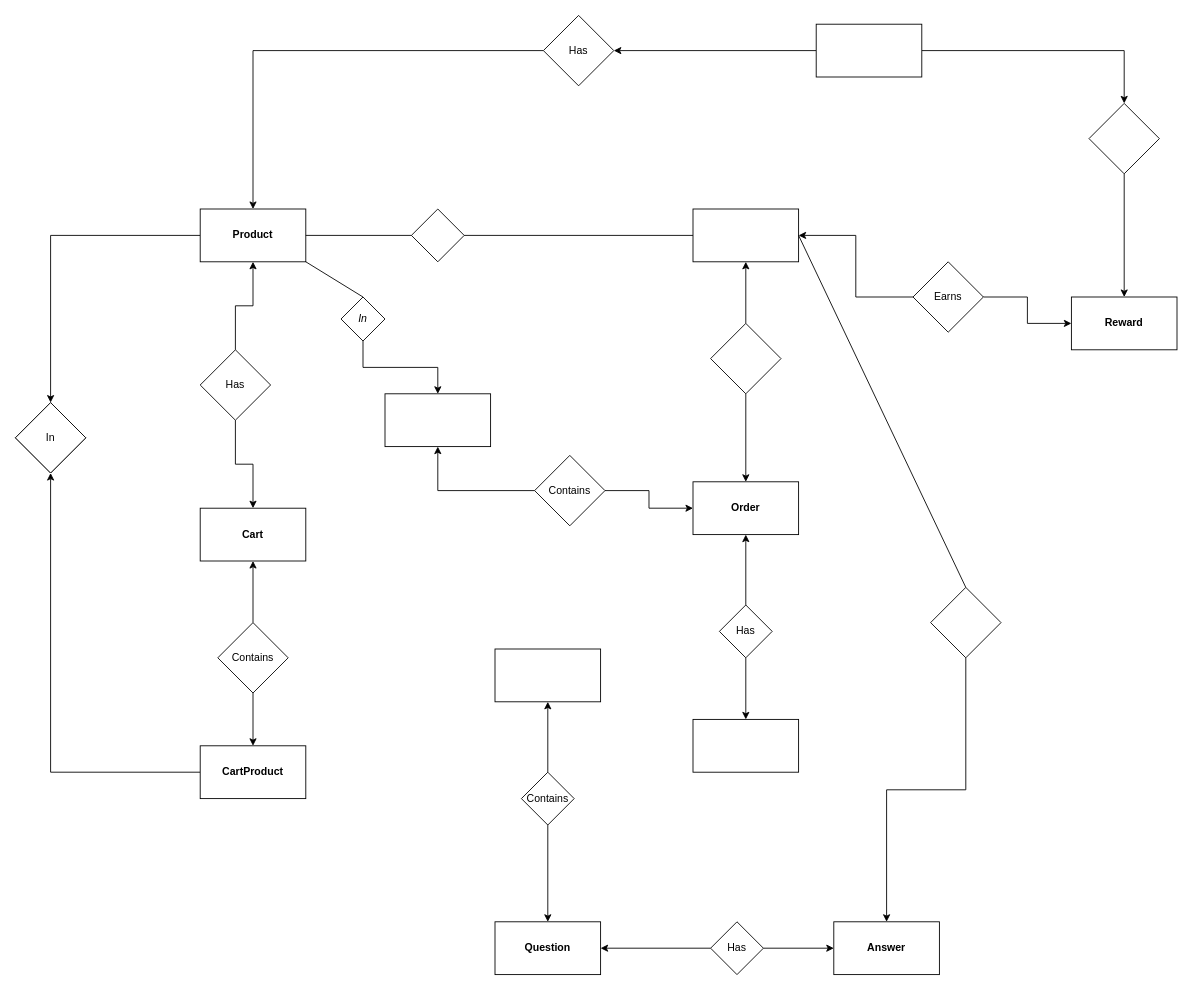
Some shapes in this 1192 by 990 pixel diagram are drawn without their labels. The shapes that lost their labels are listed below. From the top down, each one's box as (x1, y1, x2, y2) in pixels, then its label:
(815, 23, 922, 77): DiscountOffer
(1088, 103, 1159, 174): Redeems
(411, 208, 464, 262): Buys
(692, 208, 799, 262): User
(710, 323, 781, 394): Places
(384, 393, 491, 447): OrderProduct
(930, 587, 1001, 658): Gives
(494, 648, 601, 702): Quiz
(692, 719, 799, 772): Payment
